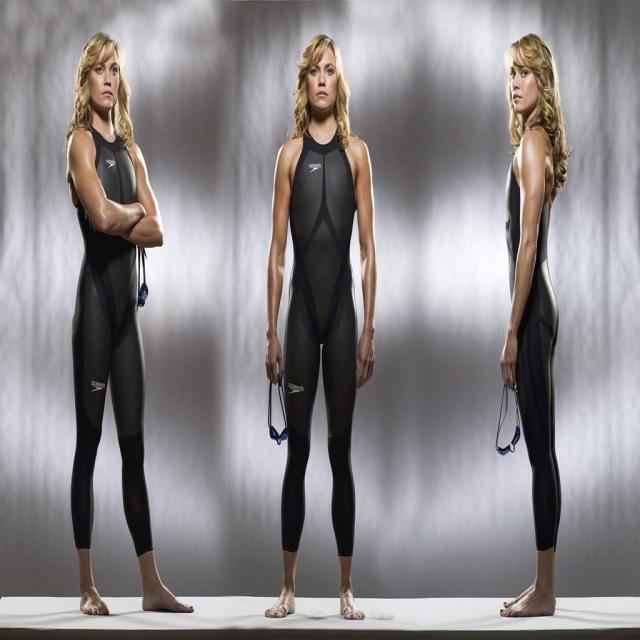nomask: (305, 42, 337, 108), (89, 42, 120, 108), (508, 46, 538, 110)
